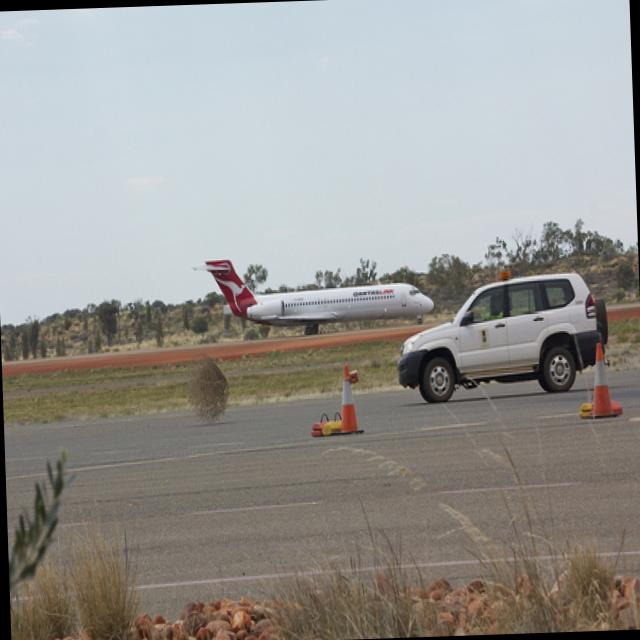Vehicle: (395, 263, 601, 408), (394, 268, 608, 405)
